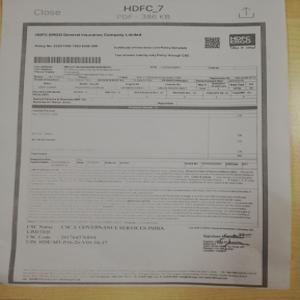image: (227, 32, 257, 46)
table: (30, 103, 257, 170), (30, 65, 257, 106)
text: (24, 223, 165, 249), (33, 29, 147, 40)
